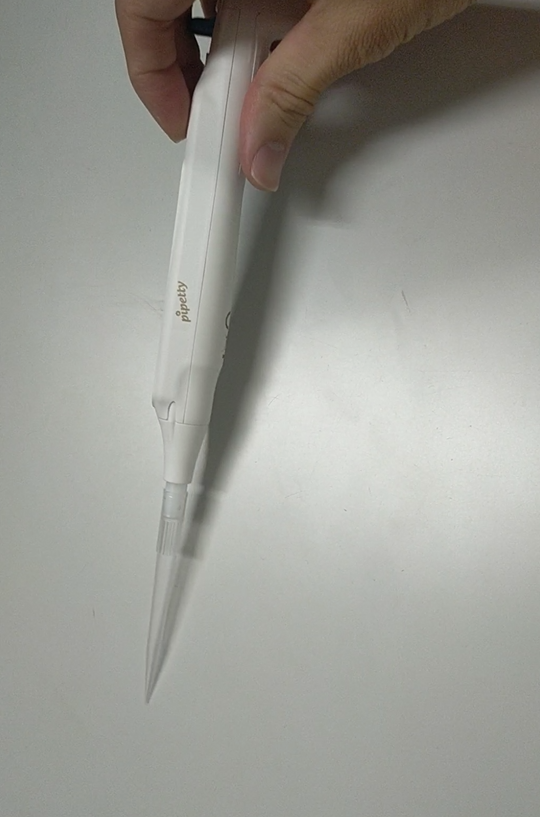pipette: (134, 1, 314, 486)
tip: (135, 485, 227, 704)
